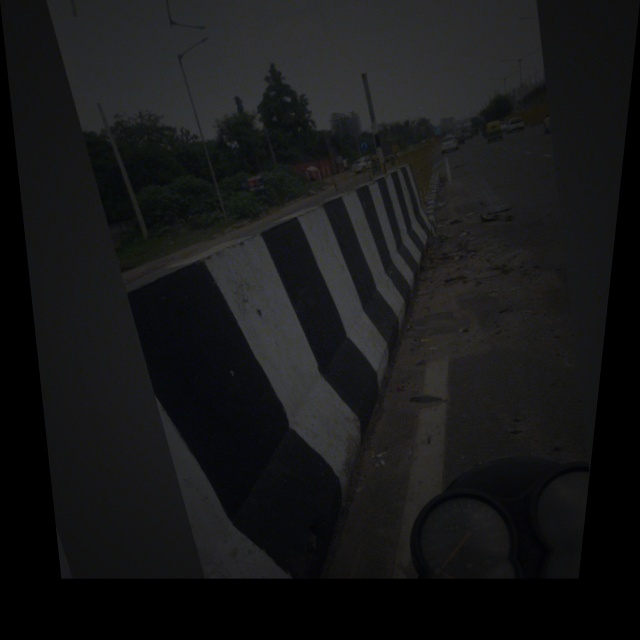Pass_Either_Side: (355, 136, 367, 148)
